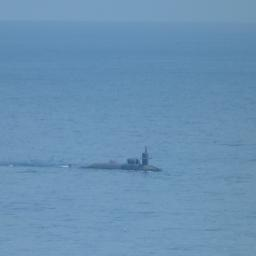submarine: (82, 144, 175, 169)
